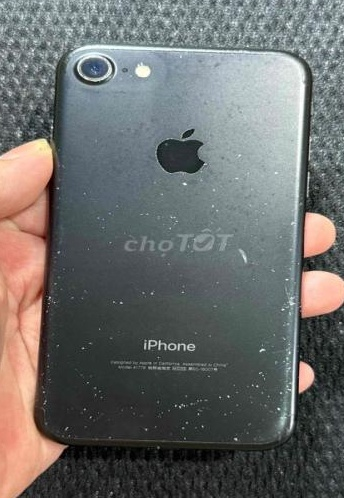scratch: (40, 49, 300, 443)
